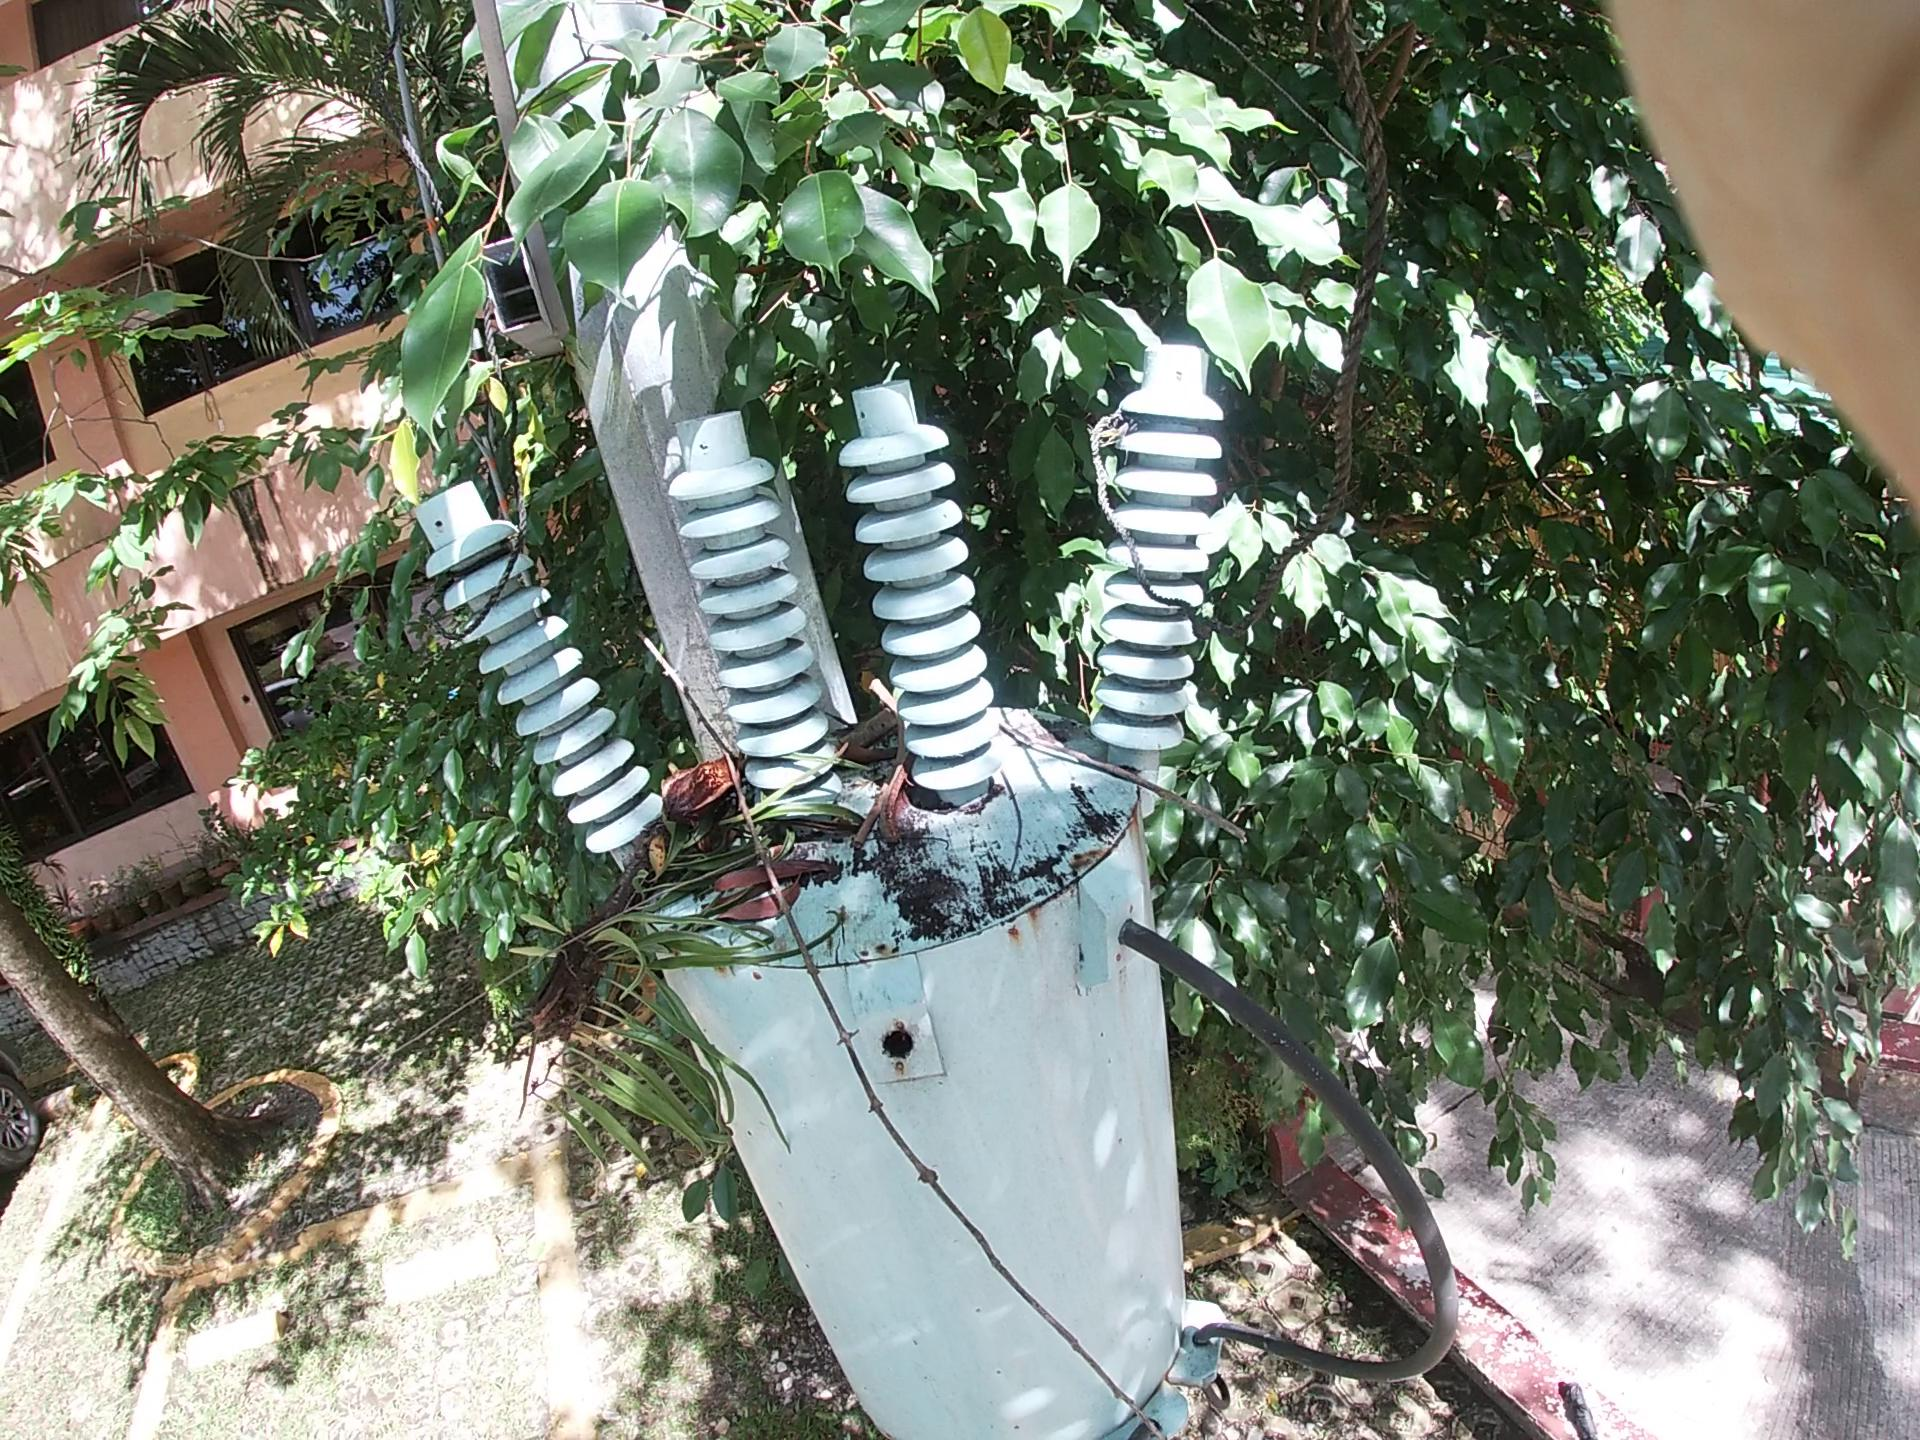branch with leaves: (523, 717, 924, 1071)
leaf: (671, 774, 939, 924)
mahogany fruit: (636, 629, 810, 886), (848, 649, 949, 880)
tree branch: (608, 588, 1138, 1340), (748, 573, 963, 897), (949, 694, 1323, 880)
